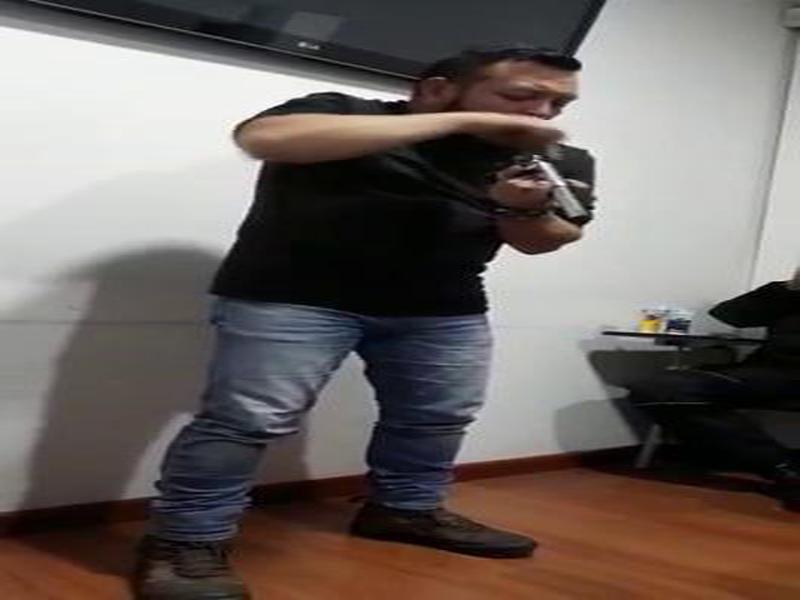Revolver: (467, 134, 606, 250)
